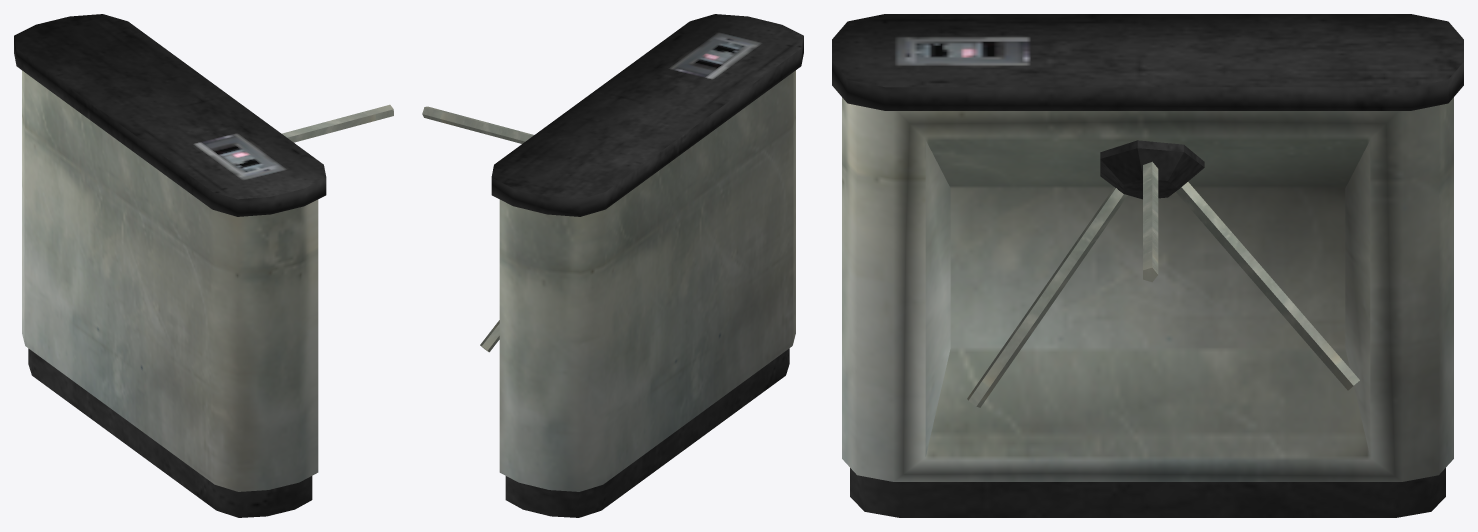
Rendered from metro_gate.glb.
3 views of the same model, side by side, from view 1: azimuth 30°, elevation 25°; view 2: azimuth 150°, elevation 25°; view 3: azimuth 270°, elevation 25° (orthographic). The views are drawn at different scales.
Parts seen in each view (by area): view 1: automatic_ticket_gate.001, automatic_ticket_gate_D; view 2: automatic_ticket_gate.001, automatic_ticket_gate_D; view 3: automatic_ticket_gate.001, automatic_ticket_gate_D.
Part boxes in pixels (x1,y1,x2,y2): automatic_ticket_gate.001: (14,14,326,517); automatic_ticket_gate_D: (282,104,393,142); automatic_ticket_gate.001: (491,14,803,517); automatic_ticket_gate_D: (422,106,533,352); automatic_ticket_gate.001: (832,14,1463,517); automatic_ticket_gate_D: (967,140,1359,407).
Size of the model in its own units: 0.971 by 1.09 by 1.42.
Materials: 1 (1 with a texture image).
